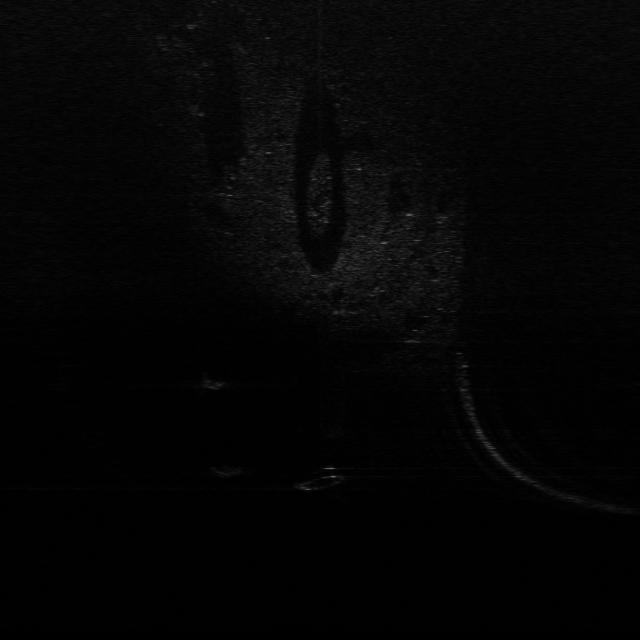cube: (207, 463, 243, 480)
square cage: (198, 370, 230, 390)
tyre: (291, 464, 347, 492)
